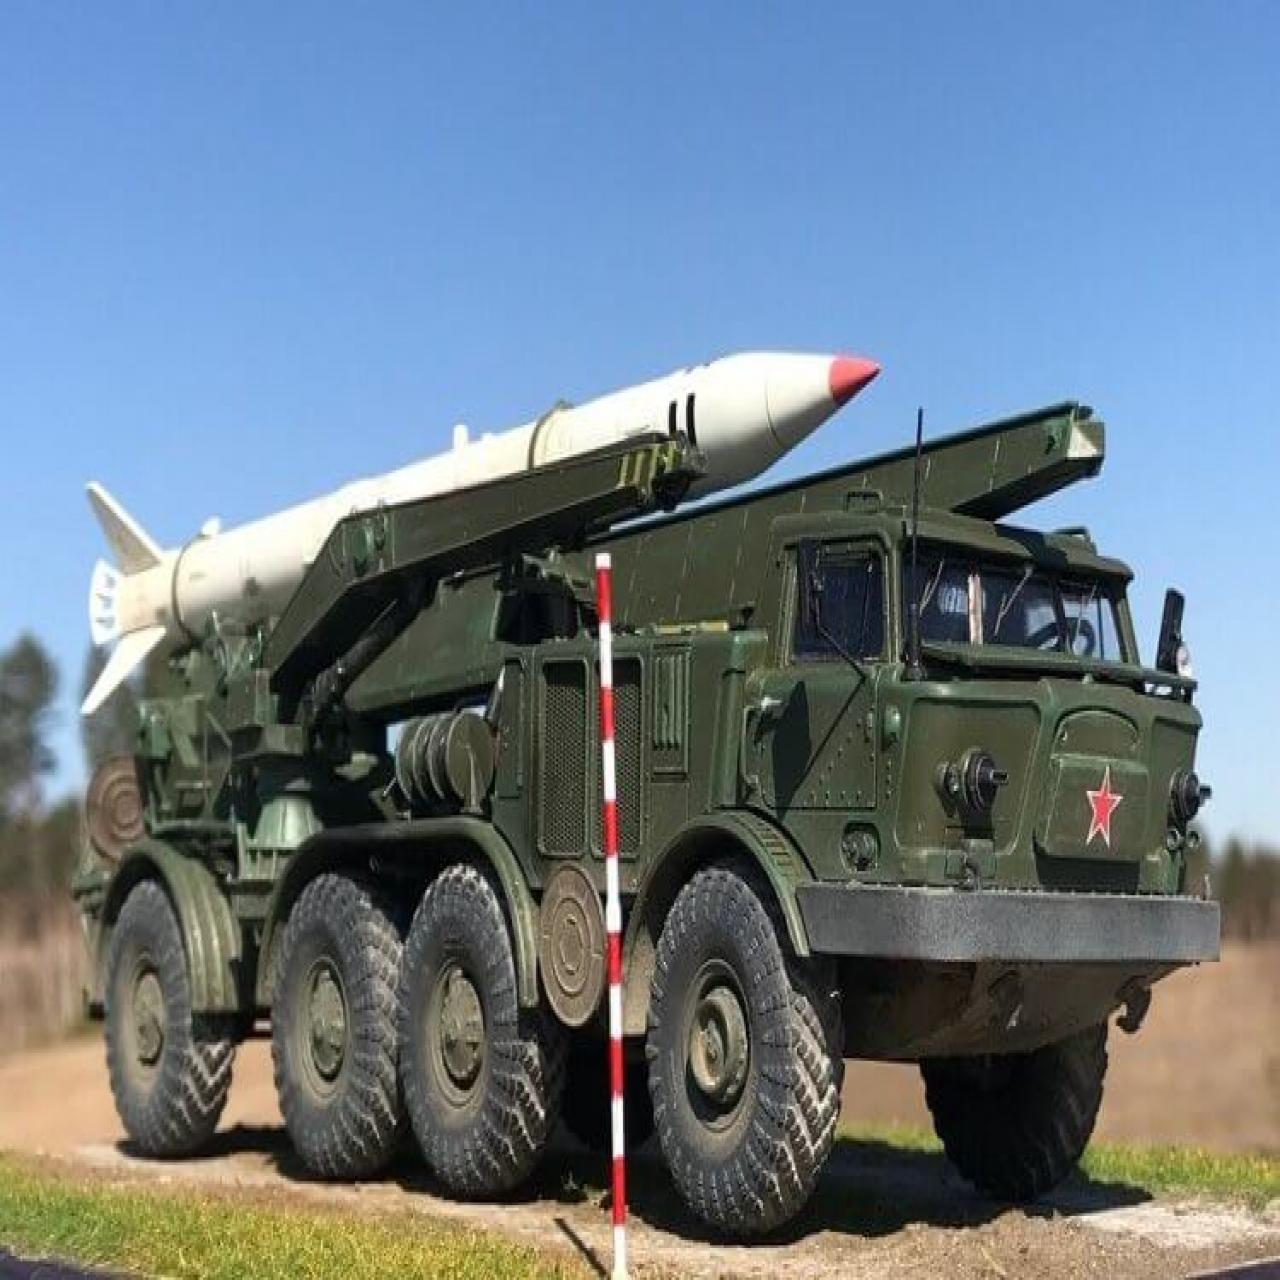MIL_Veh: (76, 418, 1214, 1191)
